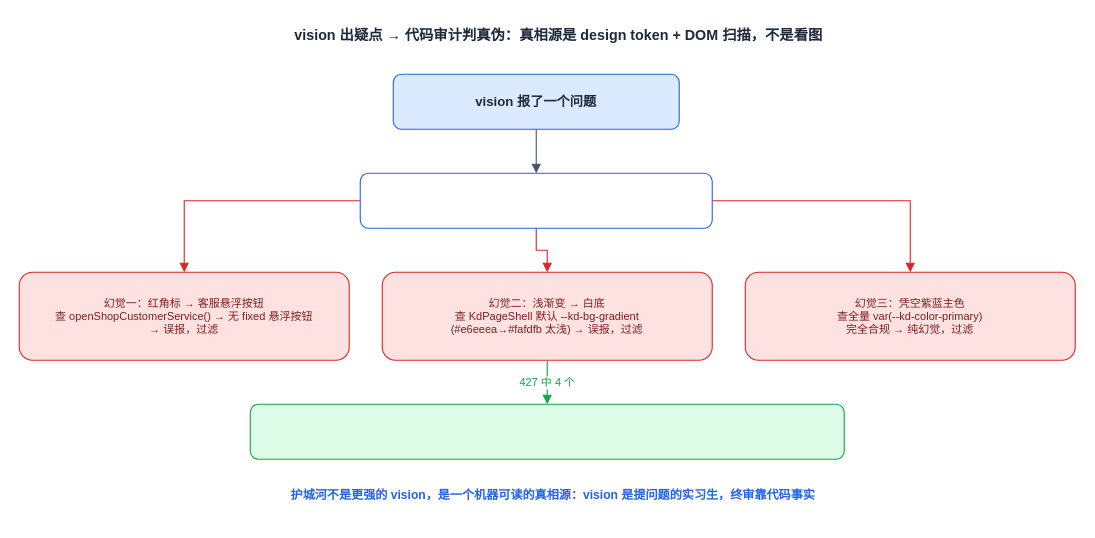
This 1095x538 diagram has some shape labels left out. The shapes that lost their labels are listed below. From the top down, each one's centre as x and y in pixels, then its label:
At pixel 535 200: "代码审计交叉验证 (design token 基线 + DOM computed-style)".
At pixel 546 431: "真问题：4 文件硬编码颜色(招聘模块蓝色 / FAB 蓝绿渐变) 有可复现代码证据 → 立项修".
